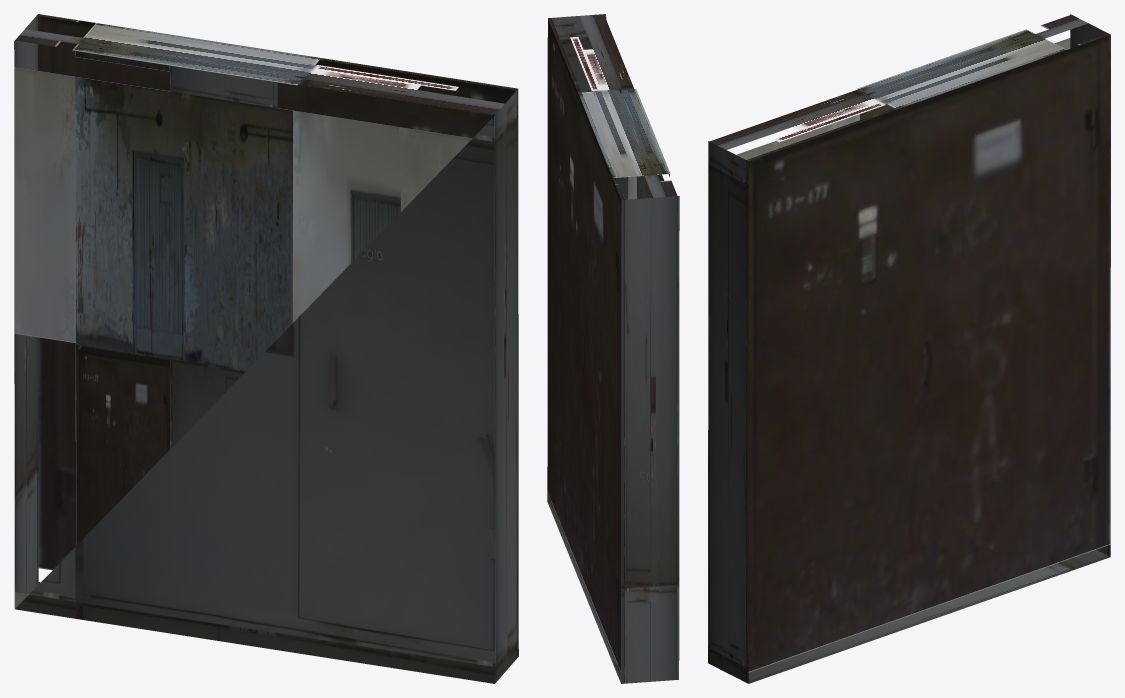
The model's file is Дверь_подъезд.fbx.
3 renders of one model, left to right at view 1: azimuth 30°, elevation 25°; view 2: azimuth 150°, elevation 25°; view 3: azimuth 270°, elevation 25°, orthographic. The views are drawn at different scales.
Visible parts, largest first — view 1: Cube_836; view 2: Cube_836; view 3: Cube_836.
Part boxes in pixels (x1,y1,x2,y2): Cube_836: (14, 14, 518, 683); Cube_836: (547, 14, 679, 683); Cube_836: (708, 14, 1110, 683).
Bounding box in the file's own units: 170 × 279 × 195.
2 materials, 2 textured.
